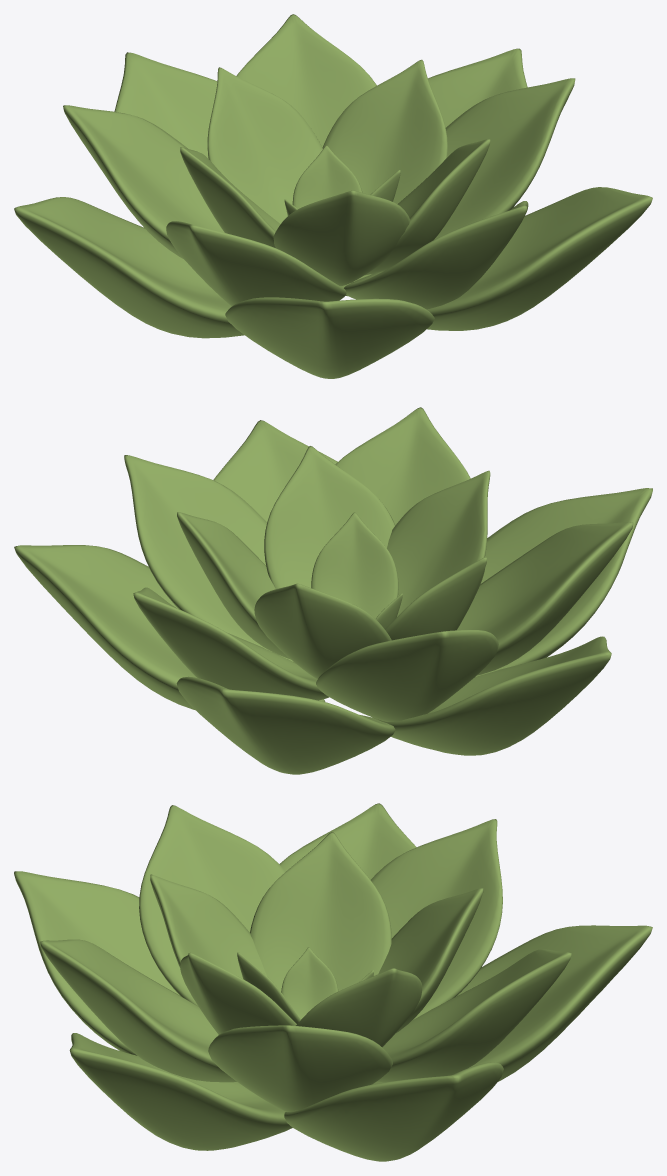
File: echeveria.glb
3 views of the same model, one above another, from view 1: azimuth 30°, elevation 25°; view 2: azimuth 150°, elevation 25°; view 3: azimuth 270°, elevation 25° (orthographic). The views are drawn at different scales.
Parts seen in each view (by area): view 1: Cube.007; view 2: Cube.007; view 3: Cube.007.
Boxes of the visible parts, x1,y1,x2,y2 form: Cube.007: (14,14,652,378); Cube.007: (14,407,652,774); Cube.007: (14,803,652,1161).
Bounding box in the file's own units: 16.29 × 5.59 × 16.
